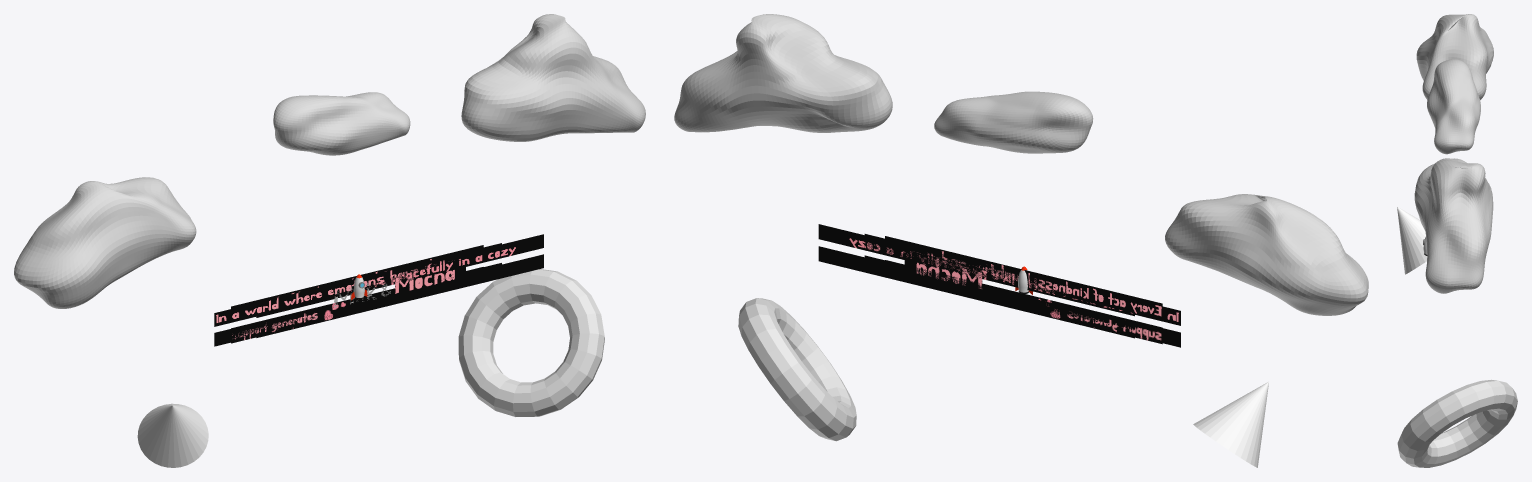
Rendered from common-newold.glb.
3 renders of one model, left to right at view 1: azimuth 30°, elevation 25°; view 2: azimuth 150°, elevation 25°; view 3: azimuth 270°, elevation 25°, orthographic. The views are drawn at different scales.
Visible parts, largest first — view 1: Wave_Right, Wave_Left, Torus, Cube, Cone, Plane.001, Plane.004, Plane.003, Plane.006, Plane.002, Imaging, Plane.005; view 2: Wave_Right, Wave_Left, Torus, Cube, Plane.005, Plane.004, Plane.006, Plane.003, Cone, Imaging, Plane.002, Plane.001; view 3: Wave_Right, Torus, Cube, Wave_Left, Cone.
Part boxes in pixels (x1,y1,x2,y2): Wave_Right: (461,14,645,141); Wave_Left: (14,177,196,308); Torus: (458,269,604,416); Cube: (273,92,410,155); Cone: (137,403,208,467); Plane.001: (214,243,501,326); Plane.004: (256,254,543,337); Plane.003: (256,234,543,317); Plane.006: (231,267,483,343); Plane.002: (214,263,501,346); Imaging: (395,267,465,294); Plane.005: (231,245,483,308); Wave_Right: (674,14,892,132); Wave_Left: (1165,194,1368,315); Torus: (738,298,856,441); Cube: (934,91,1093,153); Plane.005: (885,236,1162,320); Plane.004: (818,246,1134,338); Plane.006: (885,260,1162,344); Plane.003: (818,224,1134,316); Cone: (1193,381,1268,467); Imaging: (904,250,982,290); Plane.002: (864,255,1180,347); Plane.001: (864,234,1180,325); Wave_Right: (1414,158,1493,293); Torus: (1397,379,1517,467); Cube: (1427,59,1480,154); Wave_Left: (1416,14,1493,99); Cone: (1397,207,1427,274).
Size of what is drawn, in the model's own units: 7.97 by 4.57 by 1.56.
5 materials, 3 textured.
